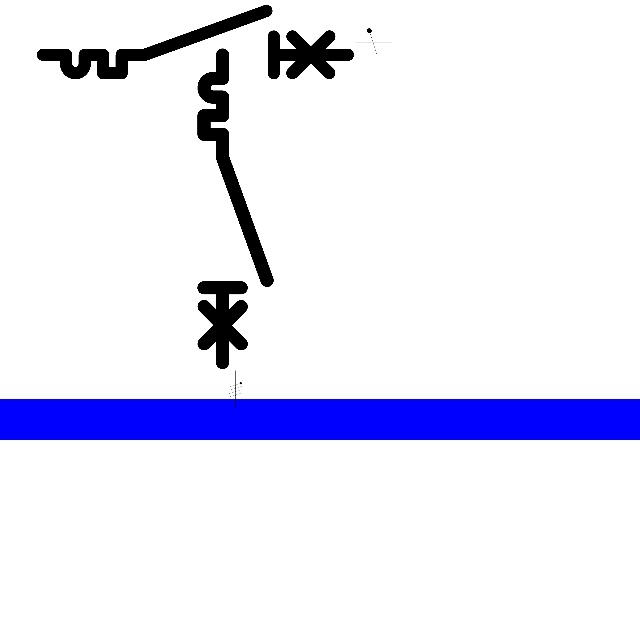interruptor_termomagnetico: (196, 47, 275, 370), (35, 3, 356, 81)
